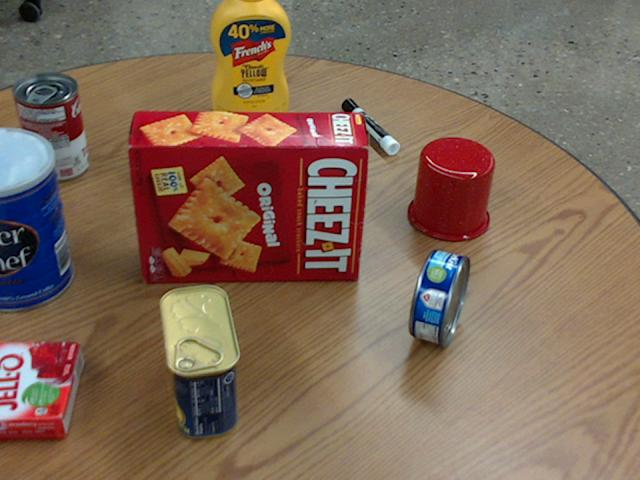cracker_box: (130, 111, 367, 281)
gelatin_box: (0, 341, 81, 438)
large_marker: (342, 98, 399, 154)
master_chef_can: (0, 128, 72, 312)
mug: (406, 136, 493, 240)
mustard_bottle: (210, 0, 290, 120)
potted_meat_can: (158, 284, 236, 437)
sugar_box: (144, 116, 304, 192)
tomato_soup_can: (13, 72, 88, 180)
tuna_fish_can: (410, 249, 468, 345)
